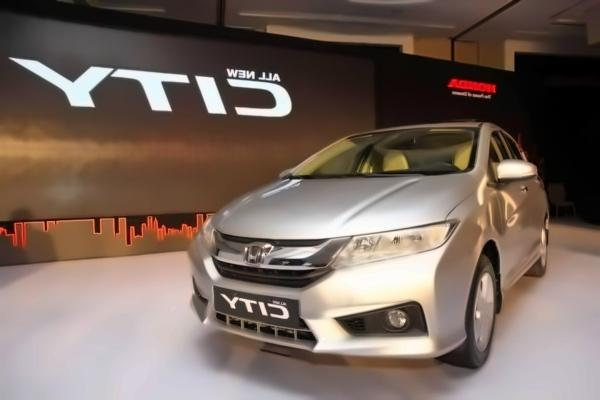Car hood: (205, 172, 480, 245)
Fender - -F-L-: (448, 171, 507, 306)
Front bumper: (175, 259, 472, 368)
Headlight - -L-: (328, 216, 460, 273)
Headlight - -R-: (197, 216, 228, 265)
Passenger-s door - -F-L-: (486, 126, 527, 286)
Passenger-s door - -R-L-: (498, 124, 549, 265)
Side bumper - -L-: (491, 243, 550, 315)
Side mirror - -L-: (491, 151, 544, 188)
Side mirror - -R-: (269, 160, 296, 186)
